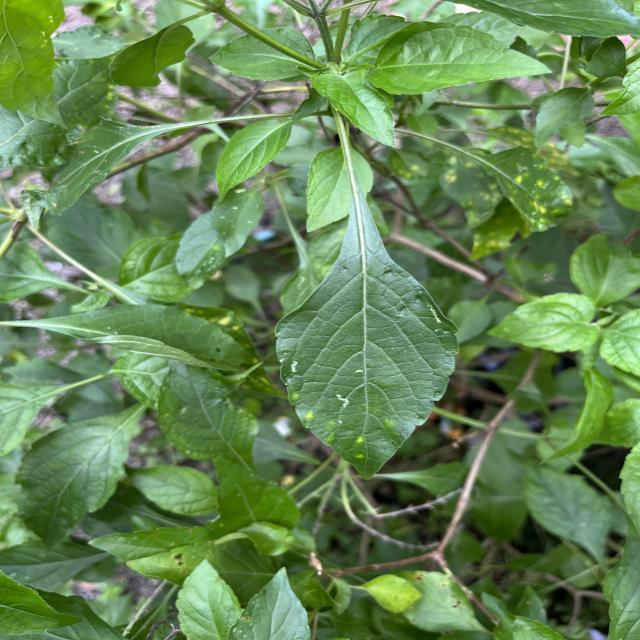Ocimum gratissimum: (271, 162, 464, 484), (356, 18, 558, 104)
